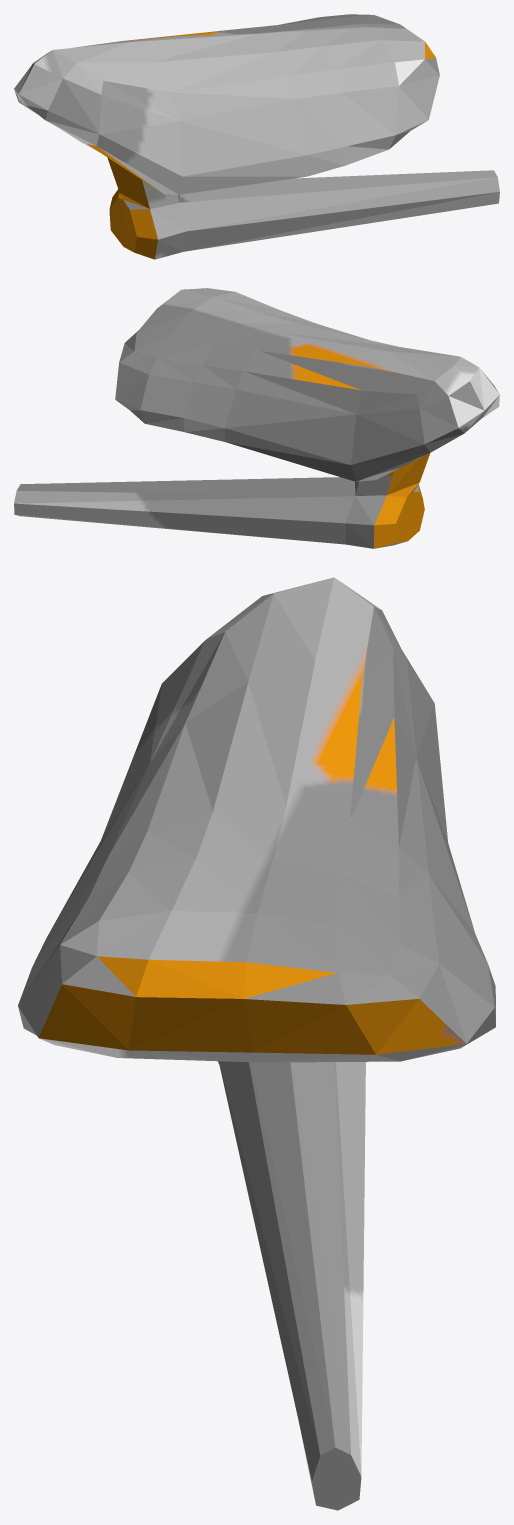
Rendered from RightShoulder.obj.
3 views of the same model, one above another, from view 1: azimuth 30°, elevation 25°; view 2: azimuth 150°, elevation 25°; view 3: azimuth 270°, elevation 25° (orthographic). The views are drawn at different scales.
Visible parts, largest first — view 1: RightShoulder_Mesh.037; view 2: RightShoulder_Mesh.037; view 3: RightShoulder_Mesh.037.
Boxes of the visible parts, <box> form: RightShoulder_Mesh.037: <box>14,14,499,259</box>; RightShoulder_Mesh.037: <box>14,288,499,548</box>; RightShoulder_Mesh.037: <box>18,577,495,1510</box>.
Bounding box in the file's own units: 0.191 × 0.1002 × 0.0851.
Materials: 1 (1 with a texture image).
